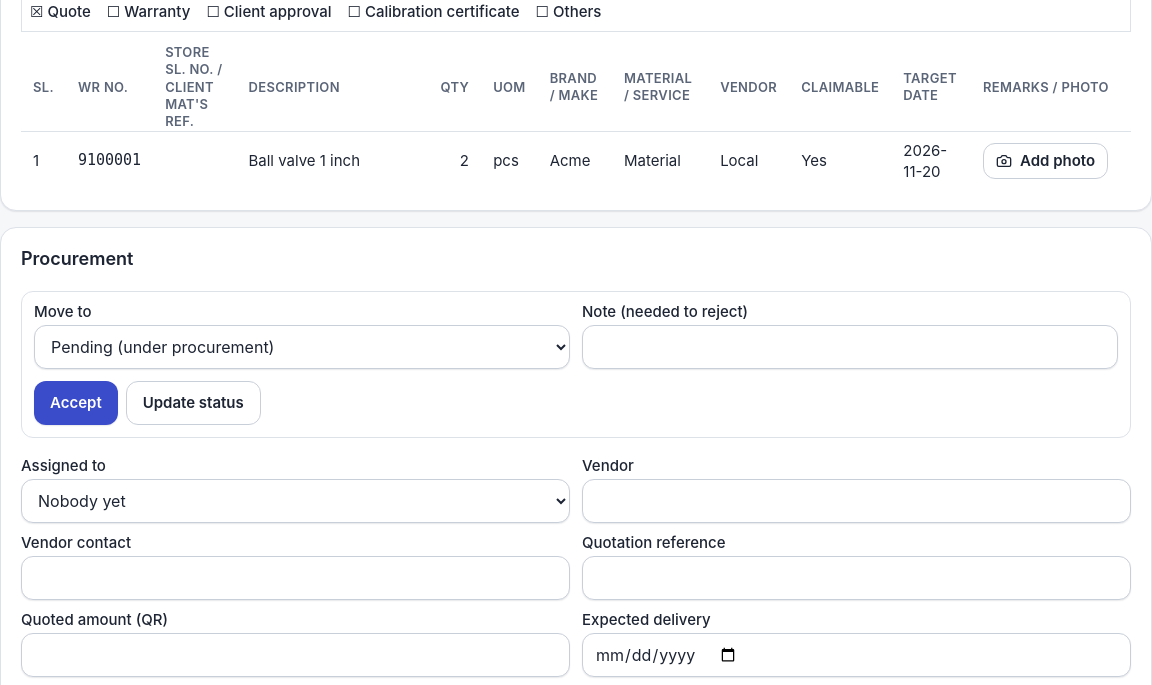
material request page › gives procurement the accept / status / vendor panel, and requires a note to reject
Later steps or results of the test are not shown.
(page scrolled)
Select "Rejected" in the dropdown labelled "Move to" at (302, 347), box [34,325,570,369]
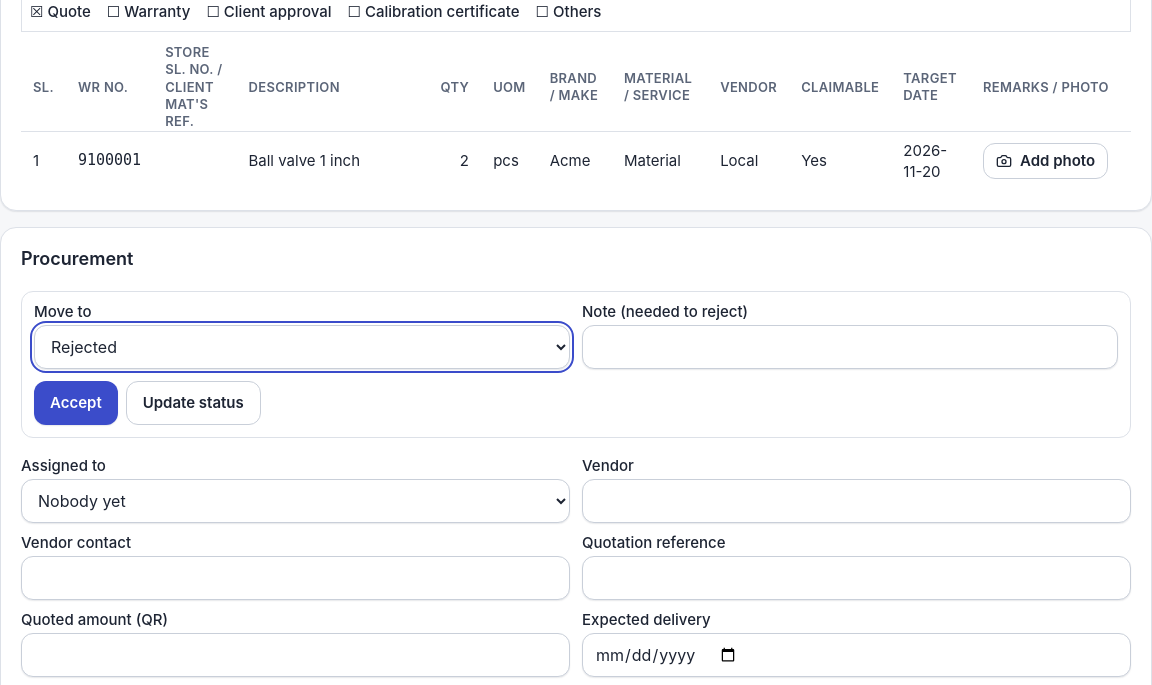
Click the button "Update status" at (193, 403), box [126,381,261,425]
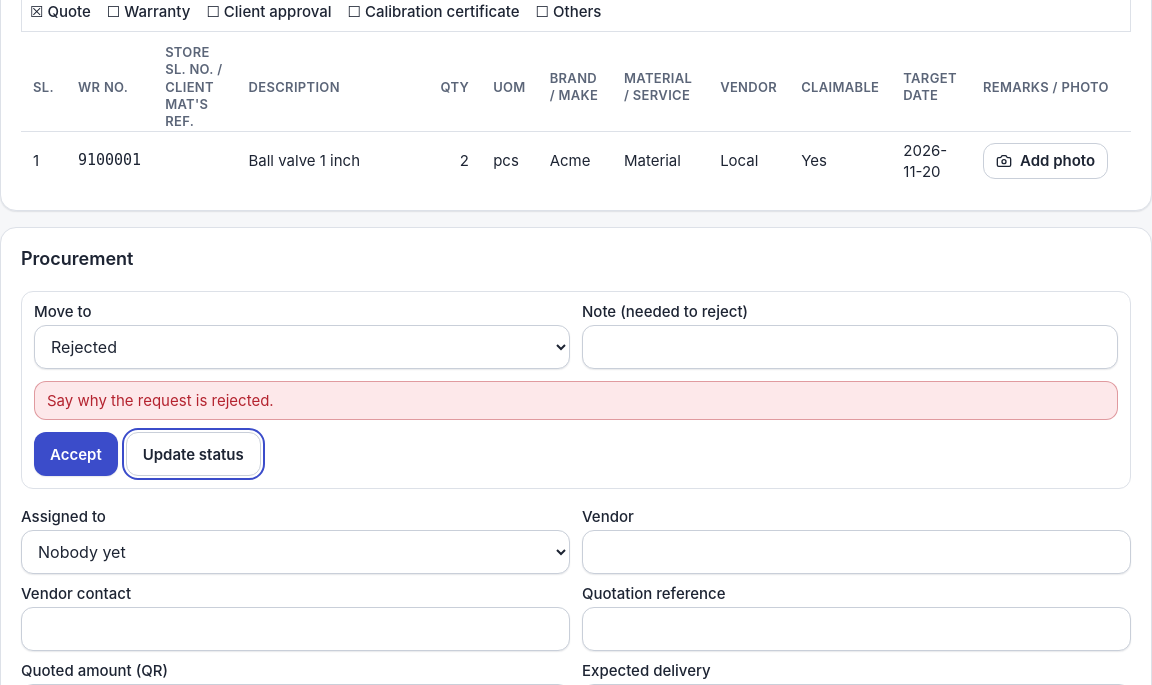
Expected: the message reads "Say why the request is rejected.", [47,391,274,410]
